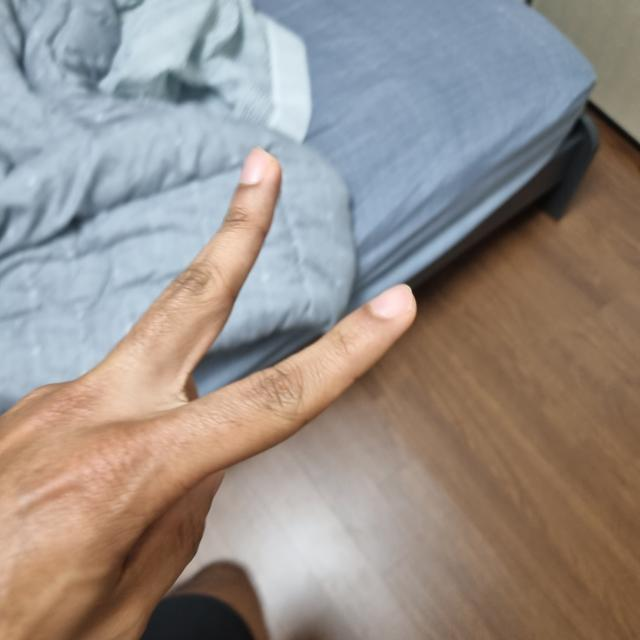Scissors: (0, 158, 410, 638)
